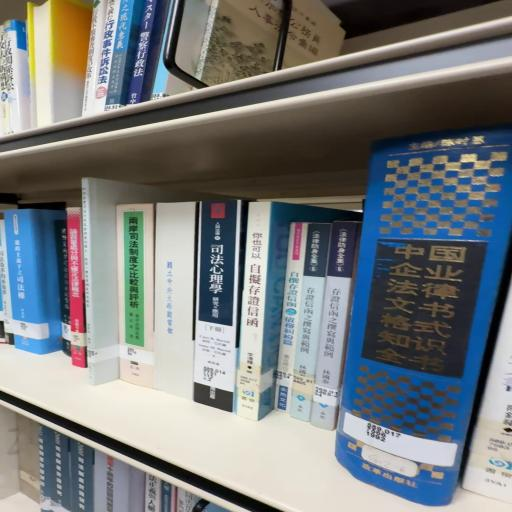backward: (151, 206, 195, 411)
book: (194, 204, 242, 420), (116, 205, 154, 351)
